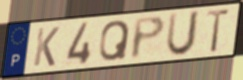4: (65, 21, 93, 67)
K: (32, 25, 62, 68)
P: (130, 14, 167, 61)
Q: (97, 19, 132, 63)
T: (204, 8, 231, 55)
U: (164, 9, 202, 59)
